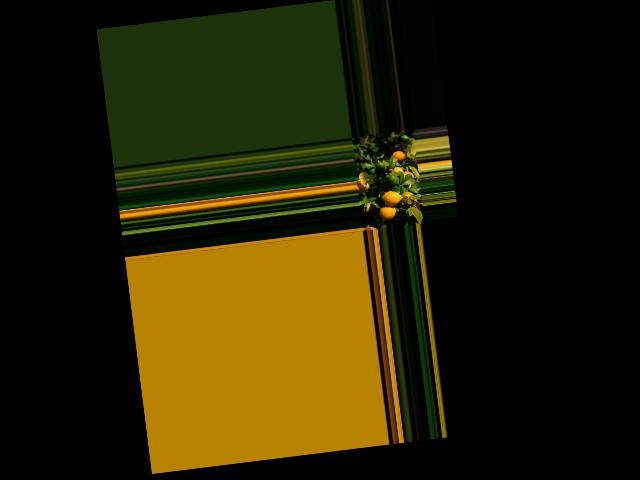lemon: (387, 147, 406, 163)
